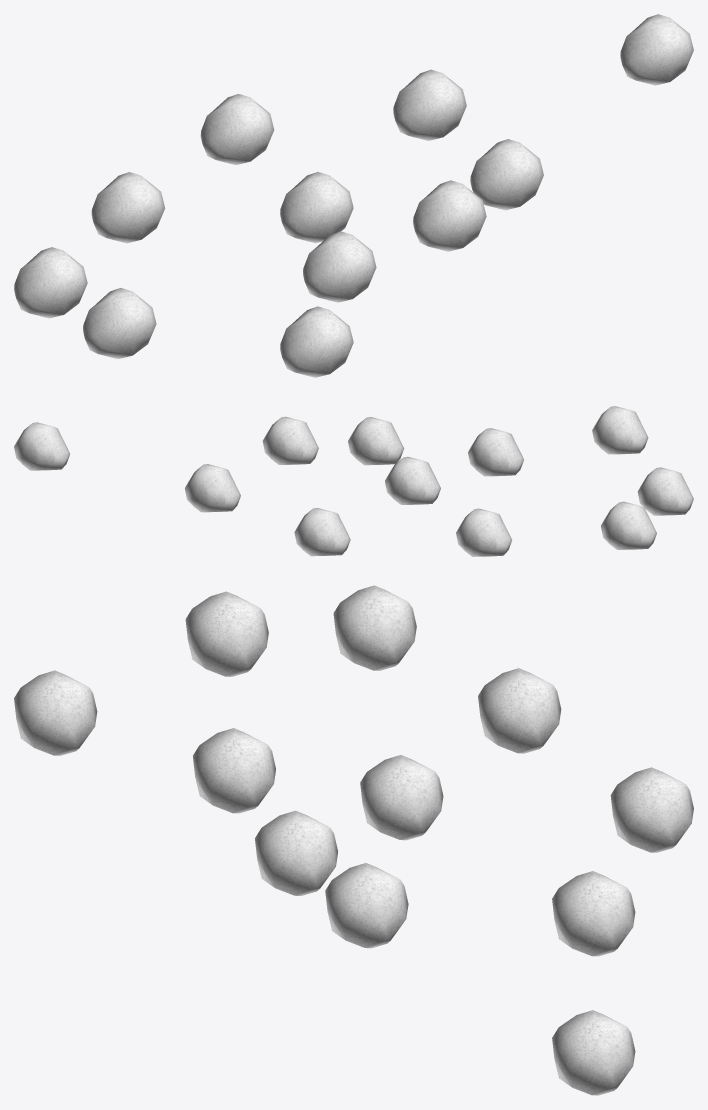
The model's file is P3_PiedrasGolem.fbx.
The picture shows the model from 3 angles, top to bottom: view 1: azimuth 30°, elevation 25°; view 2: azimuth 150°, elevation 25°; view 3: azimuth 270°, elevation 25°; orthographic projection. The views are drawn at different scales.
Visible parts, largest first — view 1: P3_PiedraGolem_004, P3_PiedraGolem_002, P3_PiedraGolem_010, P3_PiedraGolem_006, P3_PiedraGolem_011, P3_PiedraGolem_01, P3_PiedraGolem_008, P3_PiedraGolem_007, P3_PiedraGolem_009, P3_PiedraGolem_003, P3_PiedraGolem_005; view 2: P3_PiedraGolem_01, P3_PiedraGolem_006, P3_PiedraGolem_007, P3_PiedraGolem_008, P3_PiedraGolem_003, P3_PiedraGolem_002, P3_PiedraGolem_011, P3_PiedraGolem_004, P3_PiedraGolem_009, P3_PiedraGolem_010, P3_PiedraGolem_005; view 3: P3_PiedraGolem_002, P3_PiedraGolem_010, P3_PiedraGolem_006, P3_PiedraGolem_008, P3_PiedraGolem_01, P3_PiedraGolem_011, P3_PiedraGolem_003, P3_PiedraGolem_009, P3_PiedraGolem_005, P3_PiedraGolem_007, P3_PiedraGolem_004.
Part boxes in pixels (x1,y1,x2,y2): P3_PiedraGolem_004: [413, 180, 486, 251]; P3_PiedraGolem_002: [393, 69, 466, 140]; P3_PiedraGolem_010: [91, 172, 165, 243]; P3_PiedraGolem_006: [303, 231, 376, 302]; P3_PiedraGolem_011: [200, 94, 274, 164]; P3_PiedraGolem_01: [620, 14, 693, 85]; P3_PiedraGolem_008: [83, 288, 156, 358]; P3_PiedraGolem_007: [280, 306, 353, 377]; P3_PiedraGolem_009: [14, 247, 87, 318]; P3_PiedraGolem_003: [470, 139, 543, 210]; P3_PiedraGolem_005: [280, 172, 353, 243]; P3_PiedraGolem_01: [14, 422, 69, 470]; P3_PiedraGolem_006: [468, 428, 523, 476]; P3_PiedraGolem_007: [592, 406, 648, 454]; P3_PiedraGolem_008: [637, 467, 693, 515]; P3_PiedraGolem_003: [262, 416, 318, 464]; P3_PiedraGolem_002: [185, 464, 240, 512]; P3_PiedraGolem_011: [294, 508, 350, 556]; P3_PiedraGolem_004: [348, 417, 404, 465]; P3_PiedraGolem_009: [601, 501, 656, 549]; P3_PiedraGolem_010: [456, 508, 512, 556]; P3_PiedraGolem_005: [385, 456, 440, 504]; P3_PiedraGolem_002: [552, 871, 635, 956]; P3_PiedraGolem_010: [478, 668, 561, 753]; P3_PiedraGolem_006: [193, 728, 275, 813]; P3_PiedraGolem_008: [185, 591, 268, 676]; P3_PiedraGolem_01: [552, 1010, 635, 1095]; P3_PiedraGolem_011: [610, 767, 693, 852]; P3_PiedraGolem_003: [325, 863, 408, 948]; P3_PiedraGolem_009: [333, 585, 416, 670]; P3_PiedraGolem_005: [360, 755, 443, 840]; P3_PiedraGolem_007: [14, 670, 97, 755]; P3_PiedraGolem_004: [255, 810, 337, 895].
Size of what is drawn, in the model's own units: 67.32 by 5.2 by 41.64.
1 material, 1 textured.
